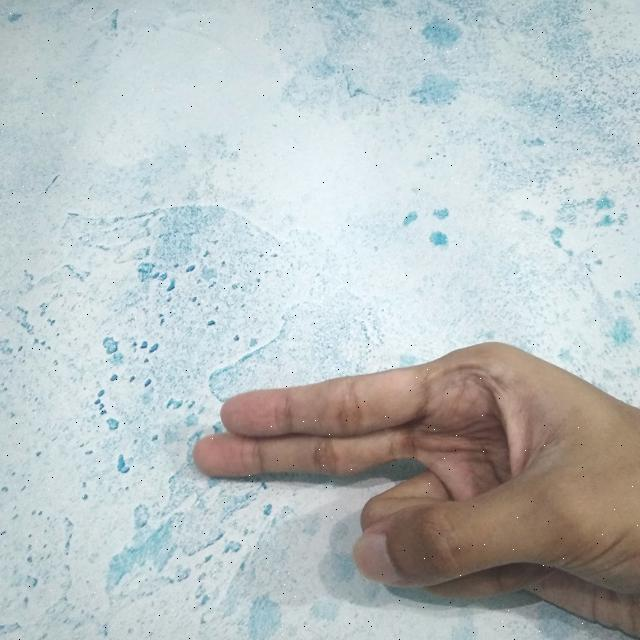H: (187, 333, 640, 640)
